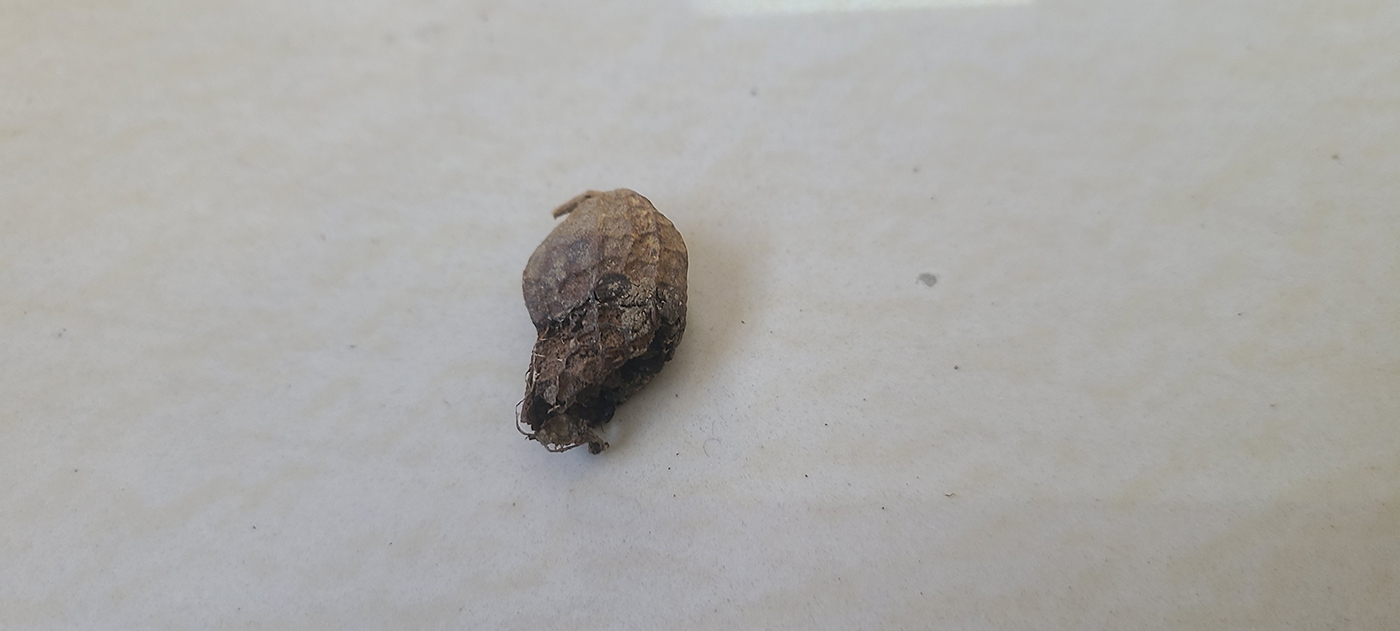l: (519, 190, 688, 450)
